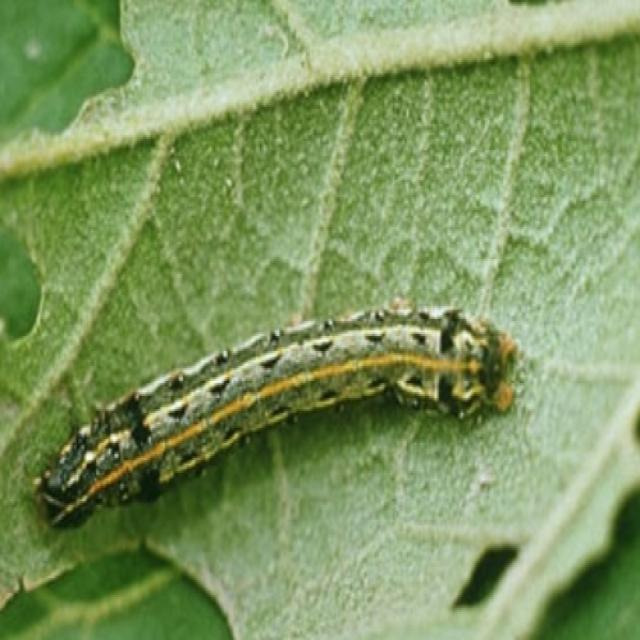armyworm: (32, 295, 521, 529)
